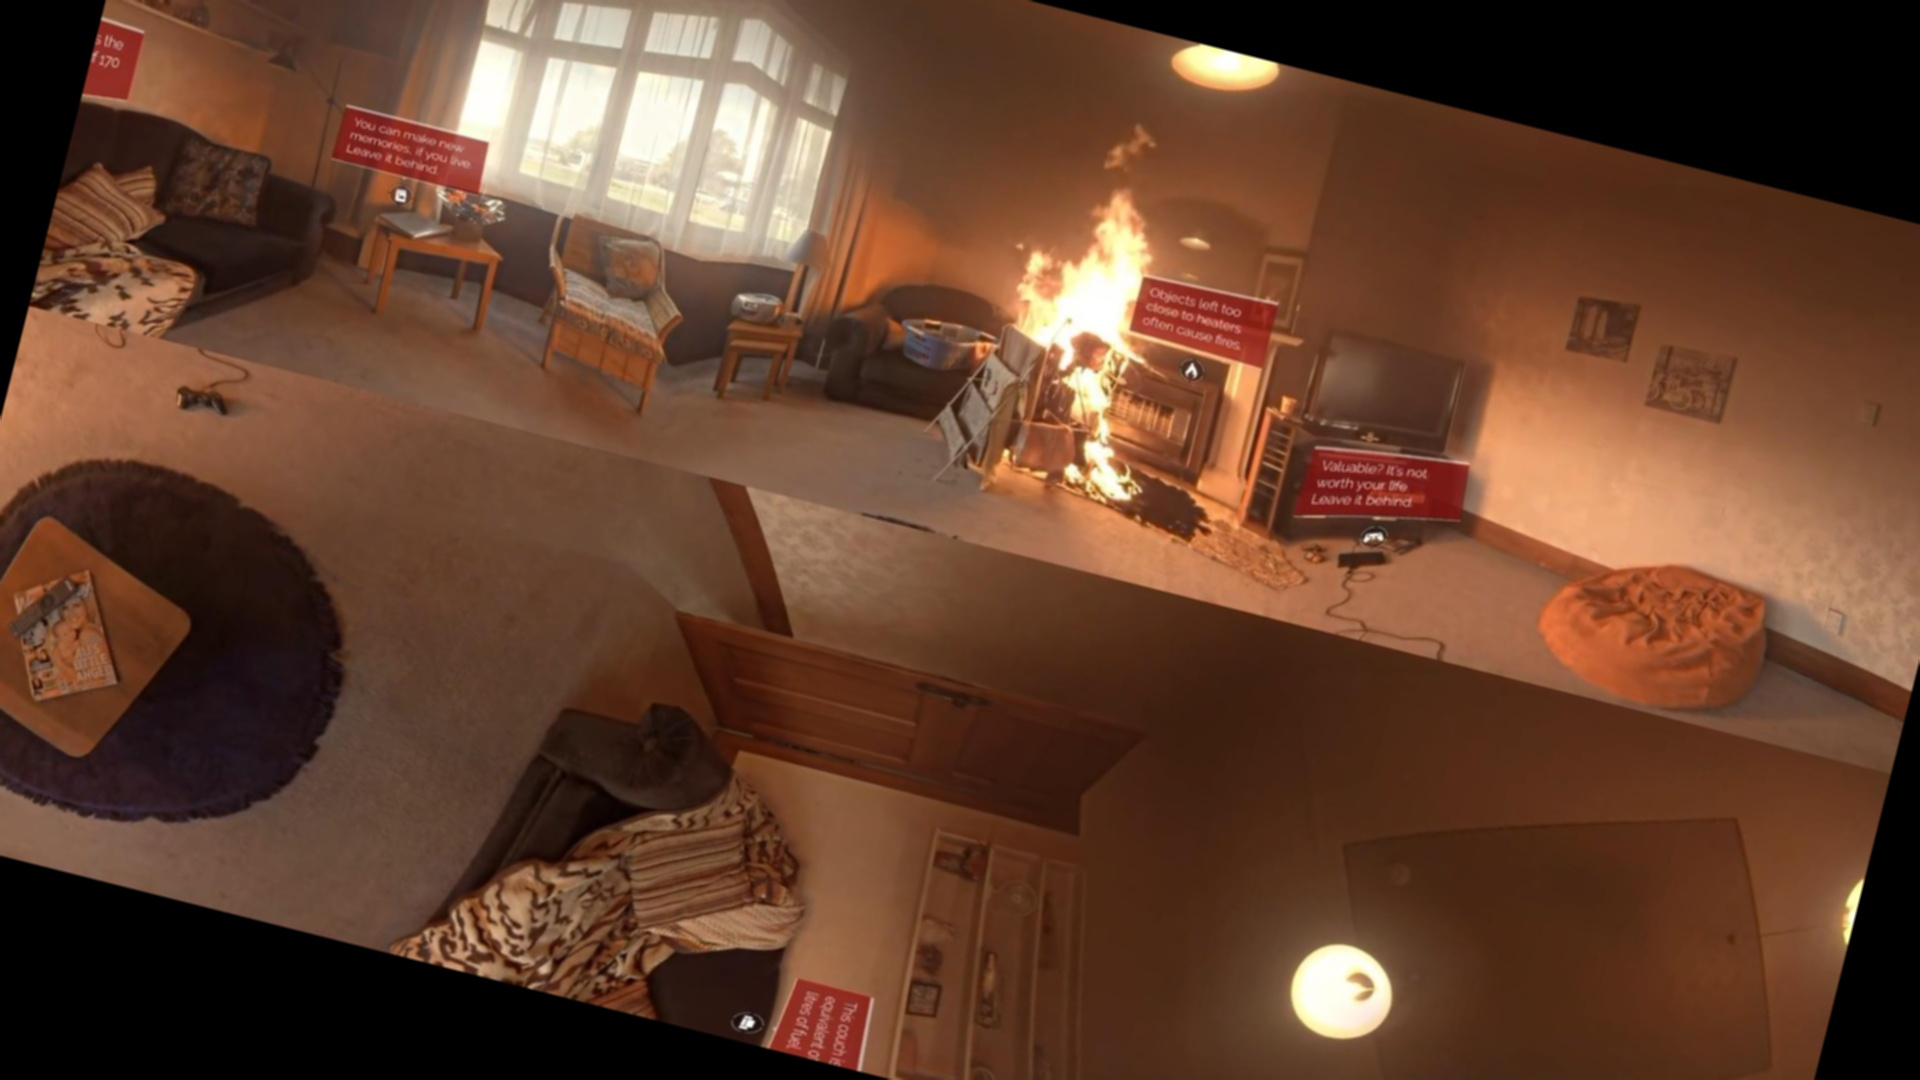fire: (968, 120, 1192, 475)
